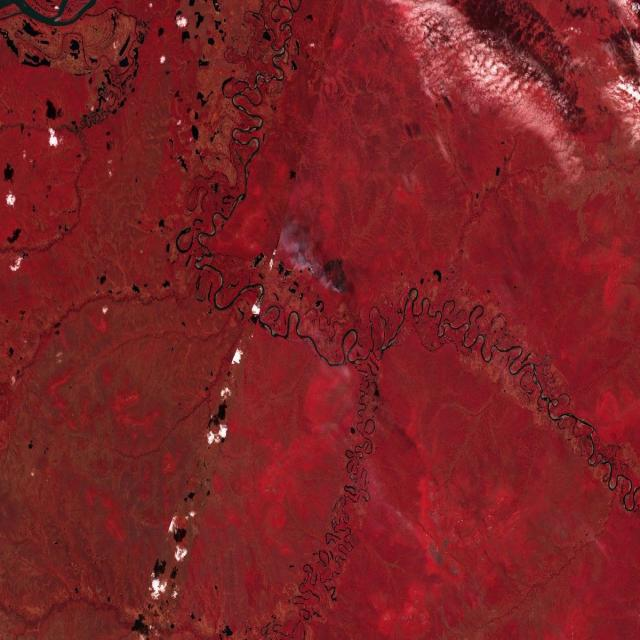fire: (310, 256, 354, 297)
